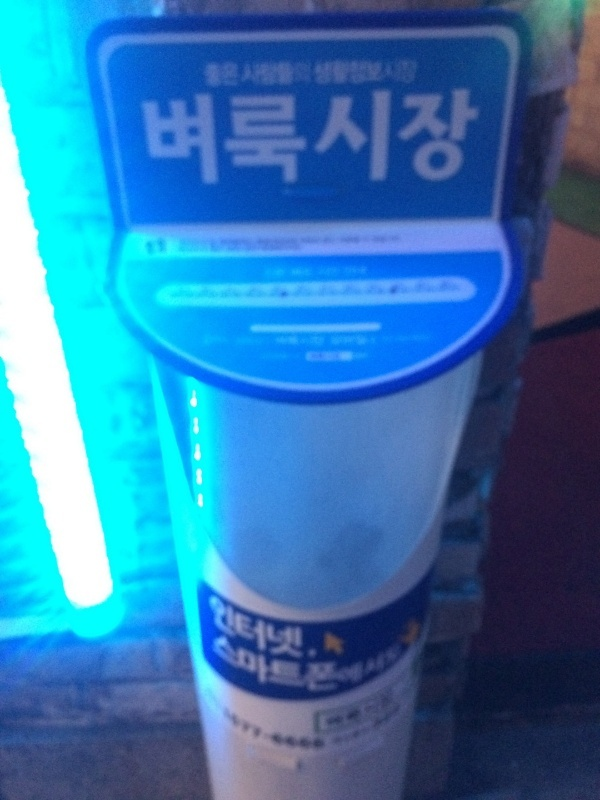text: (145, 78, 160, 196), (161, 78, 176, 196), (177, 78, 192, 196), (193, 78, 208, 196), (209, 78, 224, 196), (225, 78, 240, 196), (241, 78, 256, 196), (257, 78, 272, 196), (273, 78, 288, 196), (289, 78, 304, 196), (305, 78, 320, 196), (321, 78, 336, 196), (337, 78, 352, 196), (353, 78, 368, 196), (369, 78, 384, 196), (385, 78, 400, 196), (401, 78, 416, 196), (417, 78, 432, 196), (433, 78, 448, 196), (449, 78, 464, 196), (465, 78, 480, 196), (209, 594, 224, 667), (225, 594, 240, 667), (241, 594, 256, 667), (257, 594, 272, 667), (273, 594, 288, 667), (289, 594, 304, 667), (225, 636, 240, 700), (241, 636, 256, 700), (257, 636, 272, 700), (273, 636, 288, 700), (289, 636, 304, 700), (305, 636, 320, 700), (321, 636, 336, 700), (214, 636, 224, 700), (209, 54, 224, 94), (225, 54, 240, 94), (241, 54, 256, 94), (257, 54, 272, 94), (273, 54, 288, 94), (289, 54, 304, 94), (305, 54, 320, 94), (321, 54, 336, 94), (337, 54, 352, 94), (353, 54, 368, 94), (369, 54, 384, 94), (385, 54, 400, 94), (401, 54, 416, 94), (140, 78, 144, 196), (481, 78, 484, 196), (337, 636, 342, 700), (203, 54, 208, 94), (417, 54, 422, 94)
